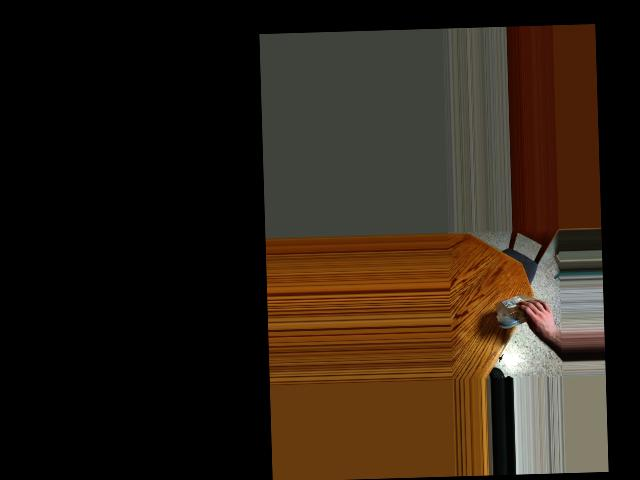cheese: (508, 295, 546, 329)
